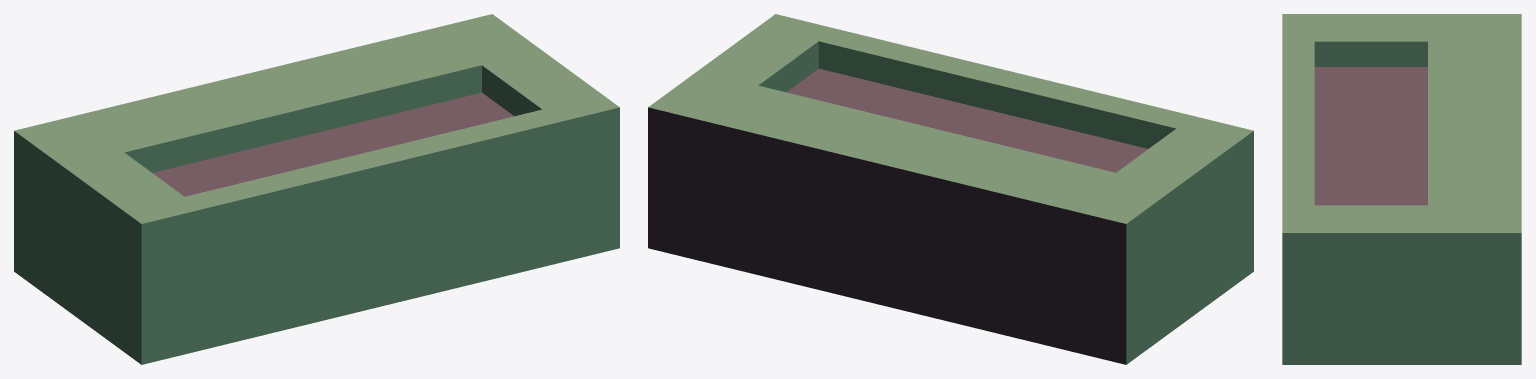
File: PlanterBox_Green01.glb
The picture shows the model from 3 angles, left to right: view 1: azimuth 30°, elevation 25°; view 2: azimuth 150°, elevation 25°; view 3: azimuth 270°, elevation 25°; orthographic projection. The views are drawn at different scales.
Parts seen in each view (by area): view 1: PlanterBox_Green01; view 2: PlanterBox_Green01; view 3: PlanterBox_Green01.
Boxes of the visible parts, box(x1,y1,x2,y2) form: PlanterBox_Green01: box(14, 14, 619, 364); PlanterBox_Green01: box(648, 14, 1253, 364); PlanterBox_Green01: box(1282, 14, 1521, 364).
Bounding box in the file's own units: 0.9727 × 0.2738 × 0.4494.
1 material, 1 textured.
